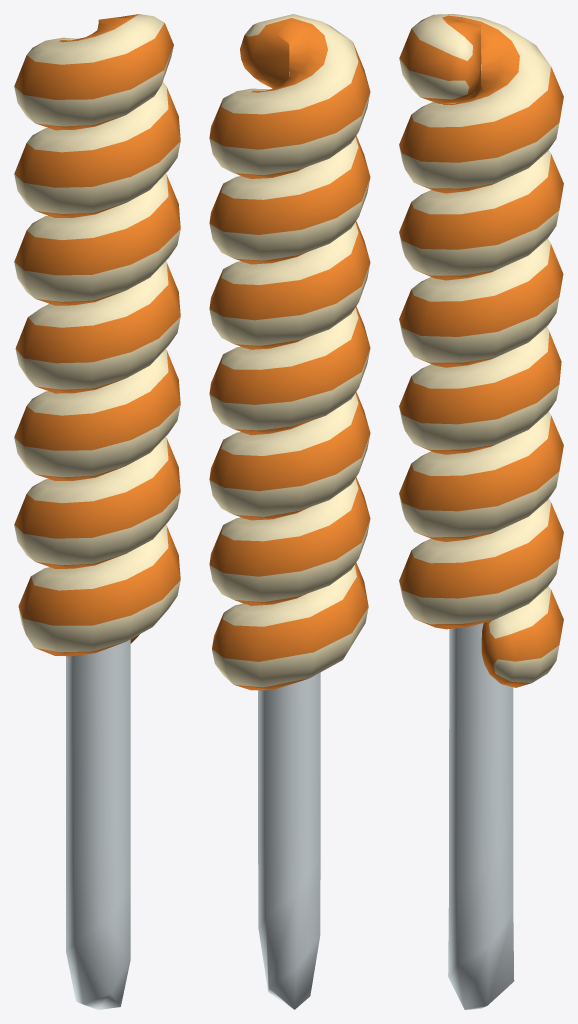
File: candy_assets32.fbx
3 views of the same model, side by side, from view 1: azimuth 30°, elevation 25°; view 2: azimuth 150°, elevation 25°; view 3: azimuth 270°, elevation 25° (orthographic). The views are drawn at different scales.
Parts seen in each view (by area): view 1: candy_assets32; view 2: candy_assets32; view 3: candy_assets32.
Boxes of the visible parts, box(x1,y1,x2,y2) form: candy_assets32: box(14, 14, 180, 1009); candy_assets32: box(209, 14, 370, 1009); candy_assets32: box(399, 14, 563, 1009).
Bounding box in the file's own units: 189 × 1230 × 185.
1 material, 1 textured.
